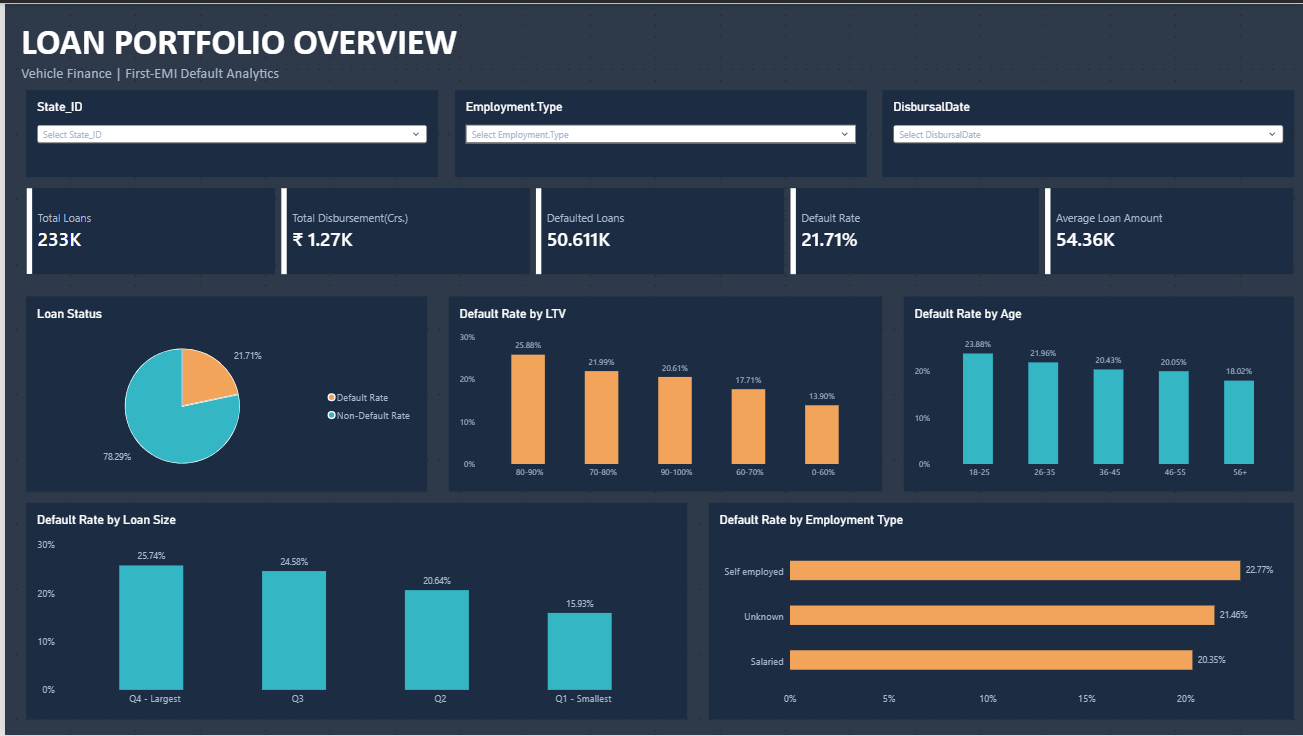

Layout of this report page (visuals, bound fields, positions):
{"tool":"powerbi","page":{"name":"Page 1","canvas":[1920,1080],"ordinal":0},"visuals":[{"type":"cardVisual","fields":{"Data":["loan_default_cleaned.Total Loans","loan_default_cleaned.Total Disbursement(Crs.)","loan_default_cleaned.Defaulted Loans","loan_default_cleaned.Default Rate","loan_default_cleaned.Average Loan Amount"]},"box":[32,272,1872,128],"z":0},{"type":"textbox","box":[24,24,912,144],"z":1000},{"type":"listSlicer","fields":{"Values":["loan_default_cleaned.State_ID"]},"box":[32,128,608,128],"z":2000},{"type":"listSlicer","fields":{"Values":["loan_default_cleaned.Employment.Type"]},"box":[664,128,608,128],"z":3000},{"type":"listSlicer","fields":{"Values":["loan_default_cleaned.DisbursalDate"]},"box":[1296,128,608,128],"z":4000},{"type":"pieChart","title":"Loan Status","fields":{"Y":["loan_default_cleaned.Default Rate","loan_default_cleaned.Non-Default Rate"]},"box":[32,432,592,288],"z":5000},{"type":"clusteredColumnChart","title":"Default Rate by LTV","fields":{"Category":["loan_default_cleaned.LTV_Group"],"Y":["loan_default_cleaned.Default Rate"]},"box":[656,432,640,288],"z":6000},{"type":"clusteredColumnChart","title":"Default Rate by Age","fields":{"Category":["loan_default_cleaned.Age_Group"],"Y":["loan_default_cleaned.Default Rate"]},"box":[1328,432,576,288],"z":7000},{"type":"clusteredColumnChart","title":"Default Rate by Loan Size","fields":{"Category":["loan_default_cleaned.Loan_Size_Group"],"Y":["loan_default_cleaned.Default Rate"]},"box":[32,736,976,320],"z":8000},{"type":"clusteredBarChart","title":"Default Rate by Employment Type","fields":{"Category":["loan_default_cleaned.Employment.Type"],"Y":["loan_default_cleaned.Default Rate"]},"box":[1040,736,864,320],"z":9000}]}

Visuals, with their boxes in screenshot pixels (x1, y1, x2, y2), scaled from the page's 1920x1080 canvas onto the 1303x736 screenshot:
cardVisual - loan_default_cleaned.Total Loans x loan_default_cleaned.Total Disbursement(Crs.): <box>22,185,1292,273</box>
textbox: <box>16,16,635,114</box>
listSlicer - loan_default_cleaned.State_ID: <box>22,87,434,174</box>
listSlicer - loan_default_cleaned.Employment.Type: <box>451,87,863,174</box>
listSlicer - loan_default_cleaned.DisbursalDate: <box>880,87,1292,174</box>
"Loan Status" pieChart: <box>22,294,423,491</box>
"Default Rate by LTV" clusteredColumnChart: <box>445,294,880,491</box>
"Default Rate by Age" clusteredColumnChart: <box>901,294,1292,491</box>
"Default Rate by Loan Size" clusteredColumnChart: <box>22,502,684,720</box>
"Default Rate by Employment Type" clusteredBarChart: <box>706,502,1292,720</box>
